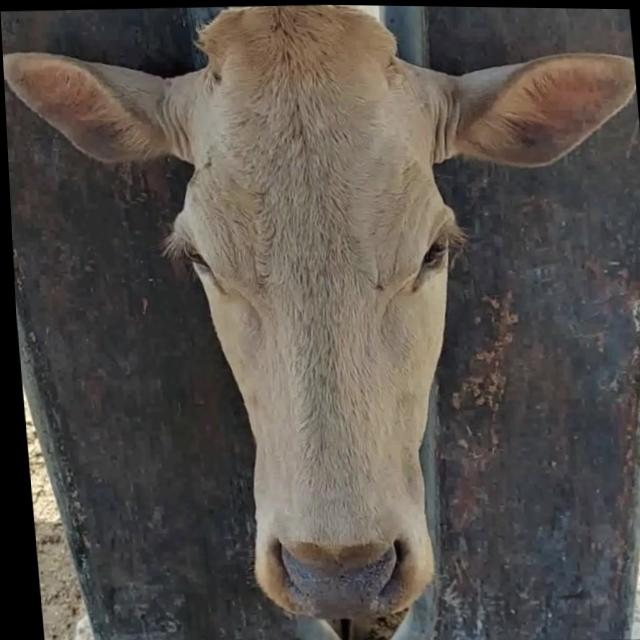cowFace: (161, 2, 481, 620)
